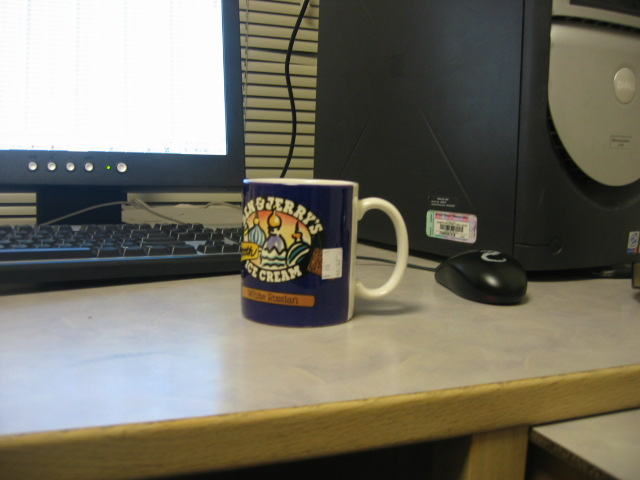mug: (242, 177, 409, 330)
